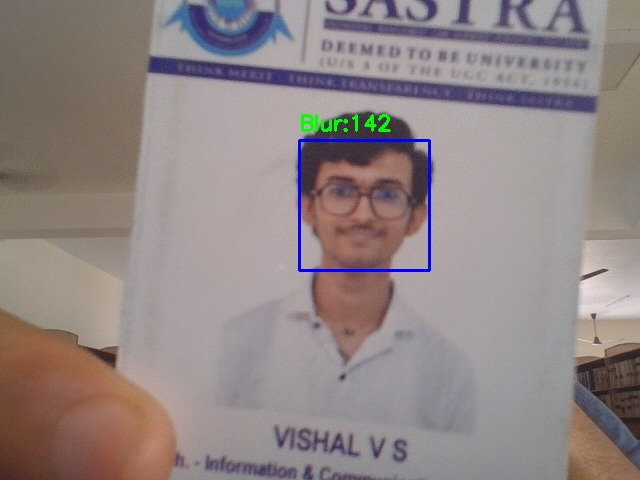fake: (299, 140, 429, 270)
